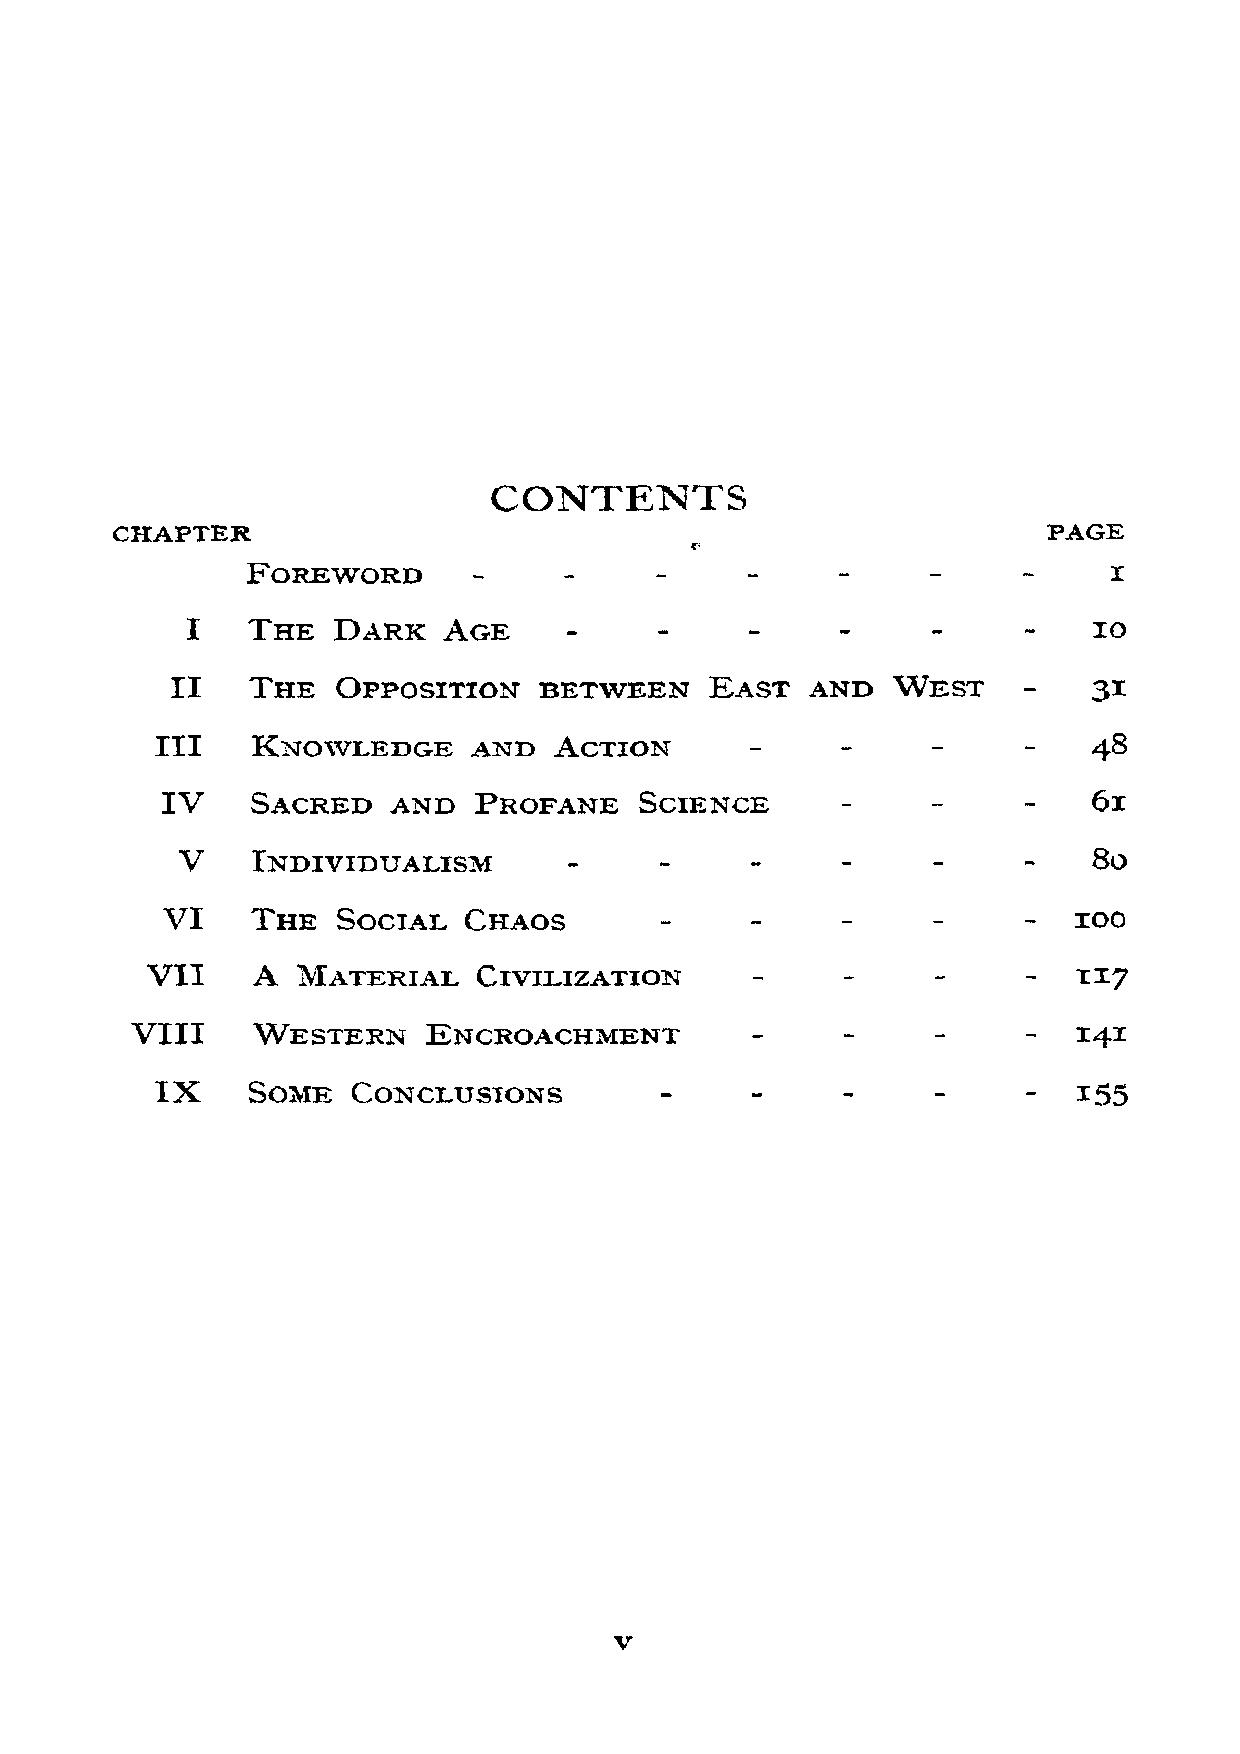TOC_chapter: (166, 667, 990, 703), (154, 781, 769, 820), (146, 726, 679, 764), (144, 956, 686, 990), (130, 1017, 679, 1051), (150, 1072, 568, 1113), (156, 898, 562, 937), (183, 611, 513, 648), (170, 841, 499, 878), (243, 554, 419, 590)
TOC_pagenumber: (1074, 1020, 1131, 1052), (1086, 843, 1137, 876), (1074, 960, 1129, 990), (1074, 1082, 1130, 1110), (1092, 729, 1129, 764), (1090, 781, 1126, 816), (1074, 907, 1125, 931), (1090, 674, 1129, 705), (1092, 620, 1129, 637), (1107, 560, 1123, 580)
chapter: (488, 476, 753, 515)
